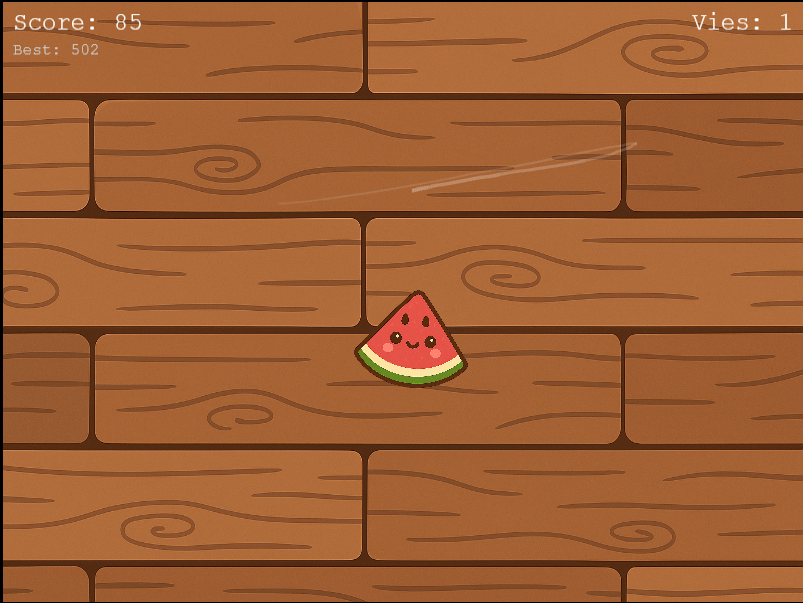fruit: (349, 288, 475, 390)
